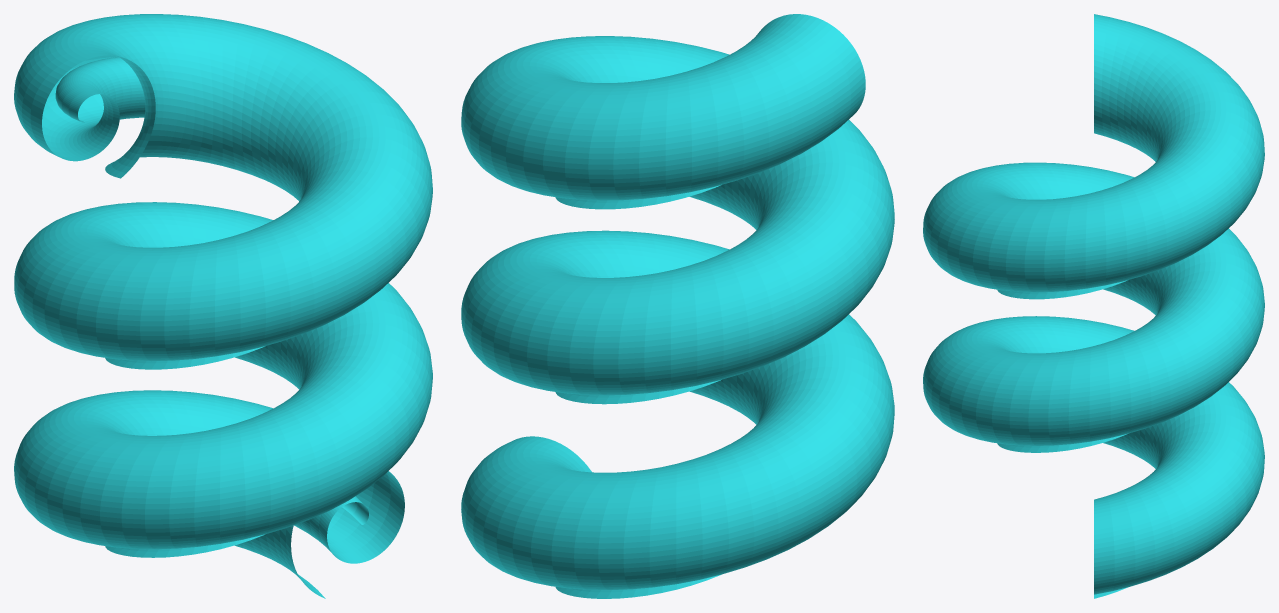
Rendered from evolventa.glb.
The picture shows the model from 3 angles, left to right: view 1: azimuth 30°, elevation 25°; view 2: azimuth 150°, elevation 25°; view 3: azimuth 270°, elevation 25°; orthographic projection. The views are drawn at different scales.
Visible parts, largest first — view 1: evolventa; view 2: evolventa; view 3: evolventa.
Boxes of the visible parts, box(x1,y1,x2,y2) form: evolventa: box(14, 14, 432, 598); evolventa: box(461, 14, 894, 598); evolventa: box(923, 14, 1264, 598).
Bounding box in the file's own units: 2.4 × 3.78 × 2.4.
